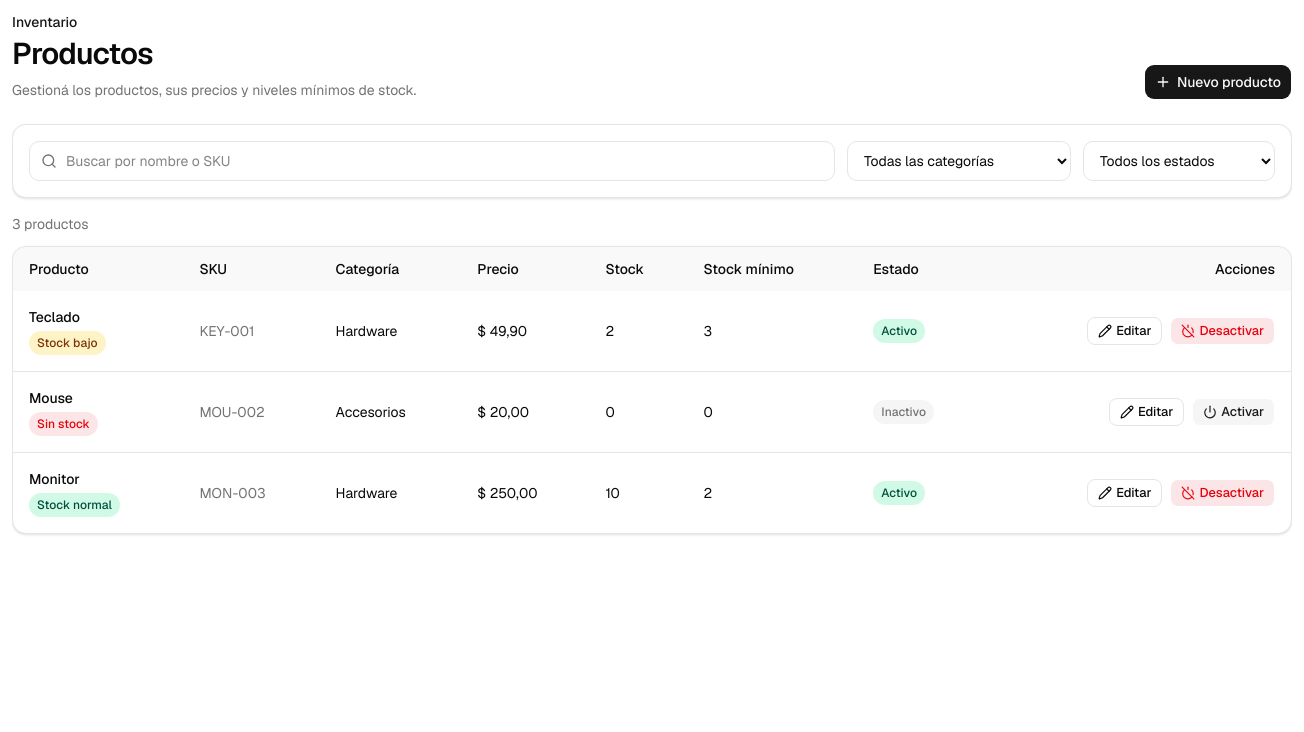
Test: ProductsPage › filters by category and status and shows no-results separately
Select "Accesorios" in the 1st dropdown named "Filtrar por categoría" at point(959, 161), box [847,141,1071,181]
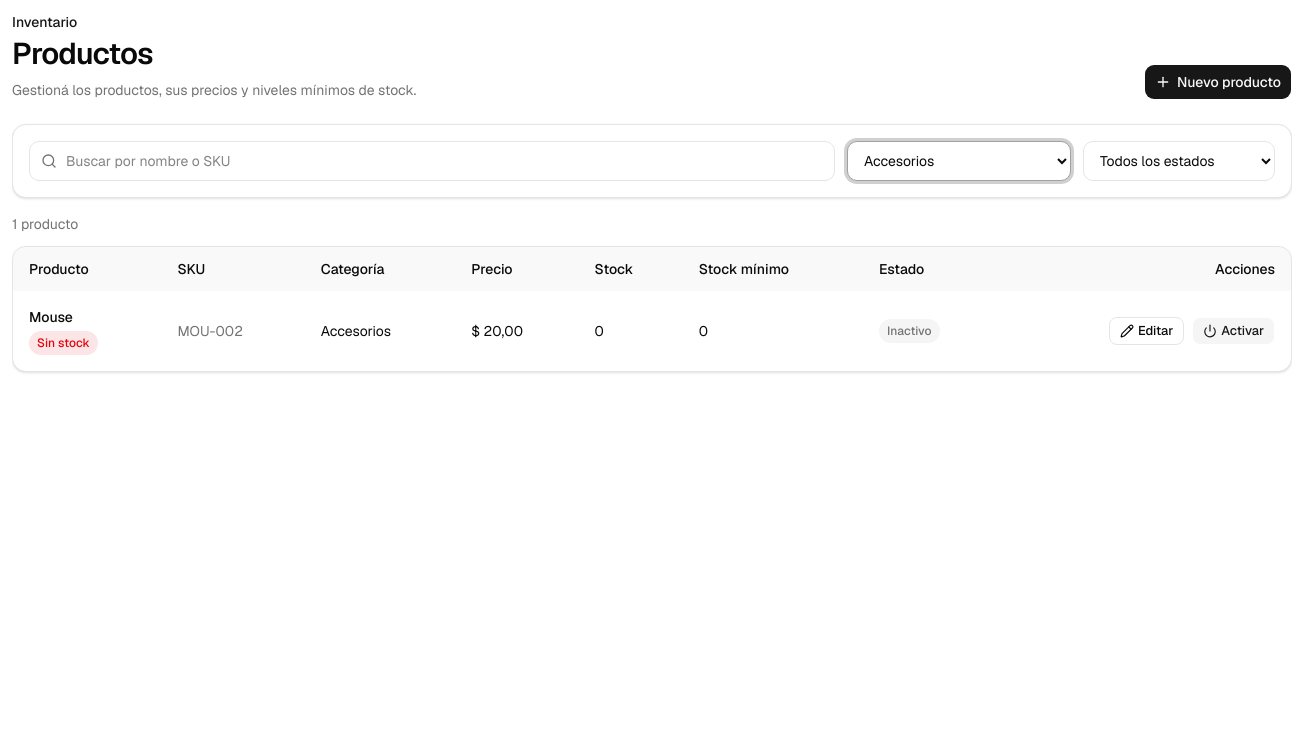
Expected: the text "Mouse" is shown 2 times
Expected: the text "Teclado" is gone
Select "Activos" in the 2nd dropdown named "Filtrar por estado" at point(1179, 161), box [1083,141,1275,181]
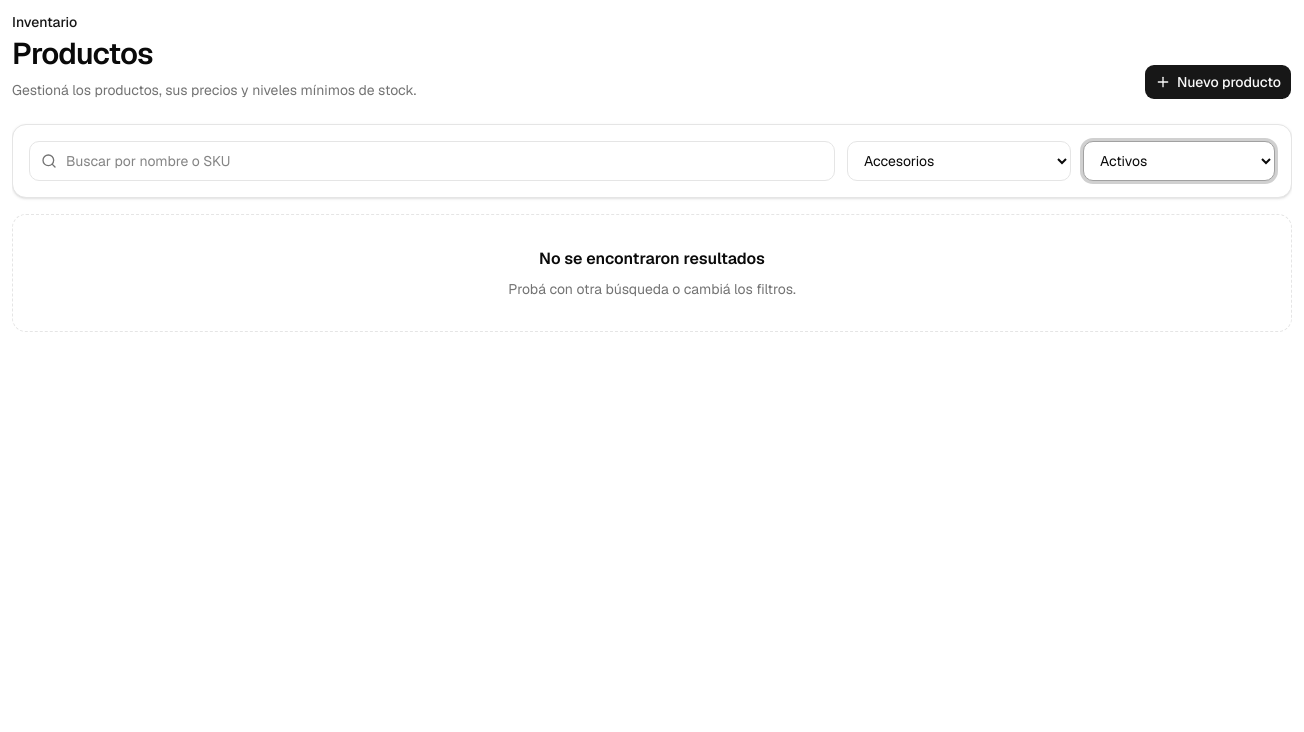
Expected: the heading "No se encontraron resultados" is shown, [539,248,765,269]
